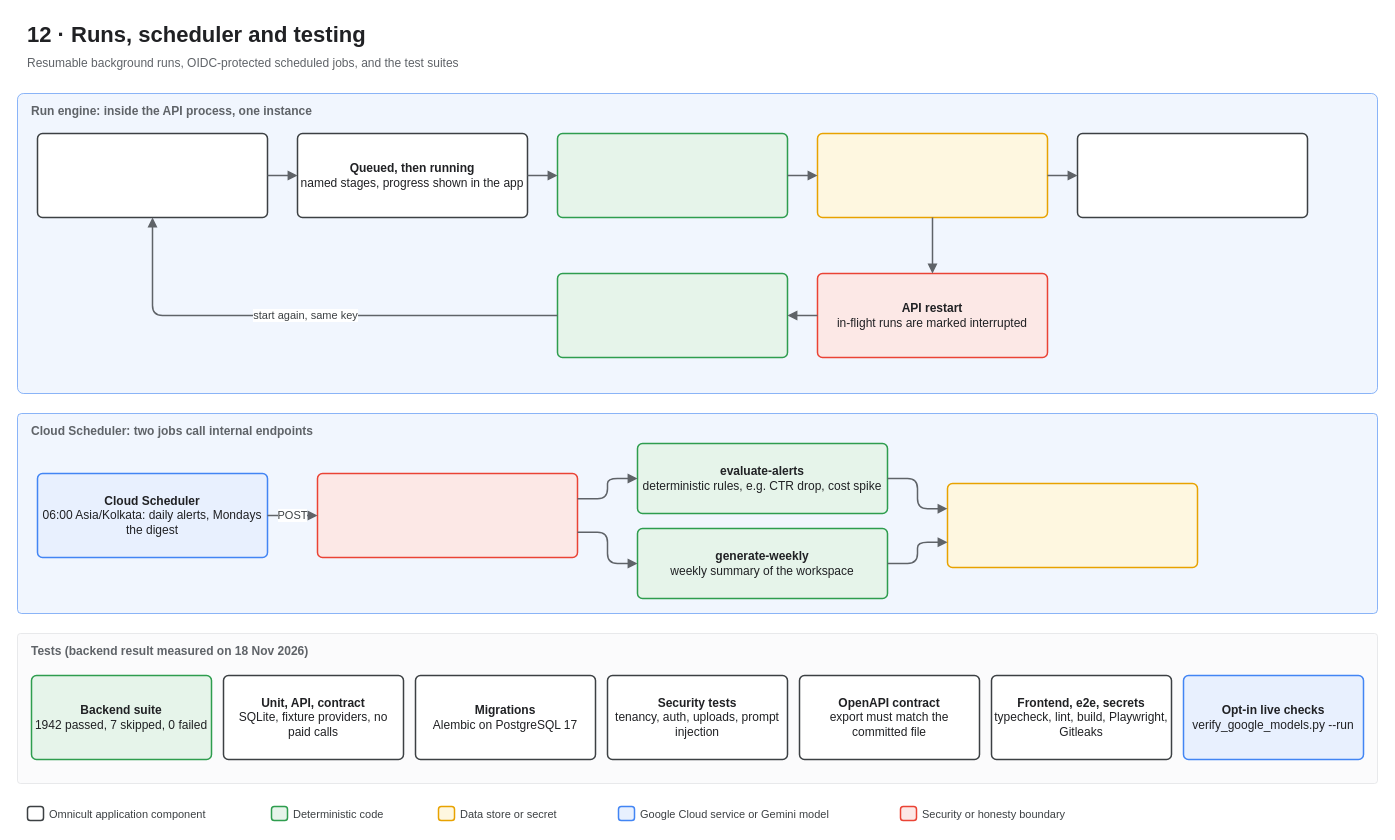
This 1395x840 diagram has some shape labels left out. Here are the shapes that lost their labels. From the top down, the centre of each, then its label:
the point at 152,175: Start a run Idempotency-Key: the same key returns the run that exists
the point at 672,175: Each stage gateway call or deterministic code, trace recorded
the point at 932,175: Checkpoint state and partial results saved in agent_runs
the point at 1192,175: Done, failed or cancelled the state and the error kind are shown
the point at 672,315: Retry or resume eligible runs continue from the checkpoint
the point at 447,515: Internal endpoint check OIDC token: service account and audience must match
the point at 1072,525: Alerts and digests stored per workspace, shown in Live Pulse
